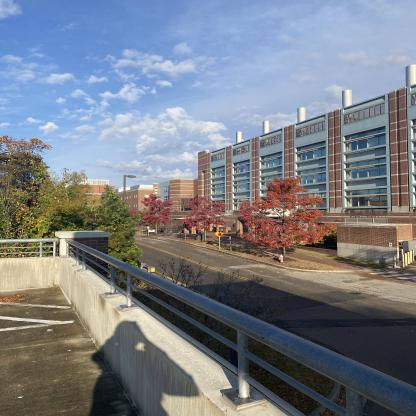EB-1: (199, 84, 415, 261)
